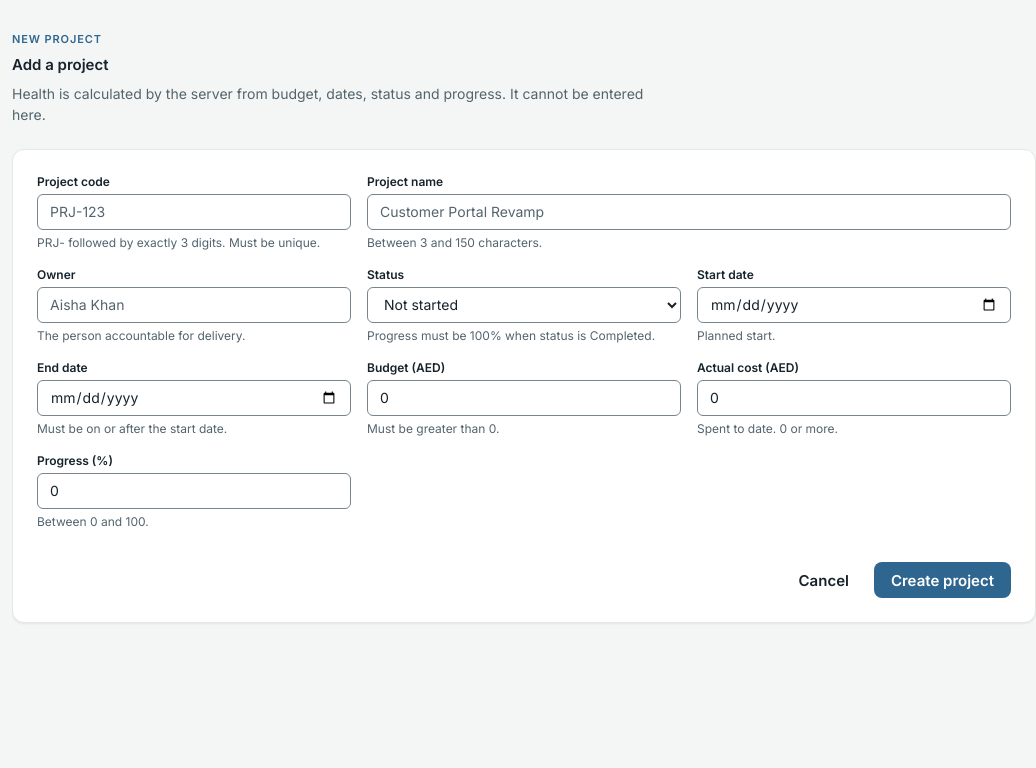
ProjectFormComponent › shows client-side errors and sends nothing when the form is empty
The image size is (1036, 768).
Click the submit button: (942, 580) 874,562 -> 1011,598
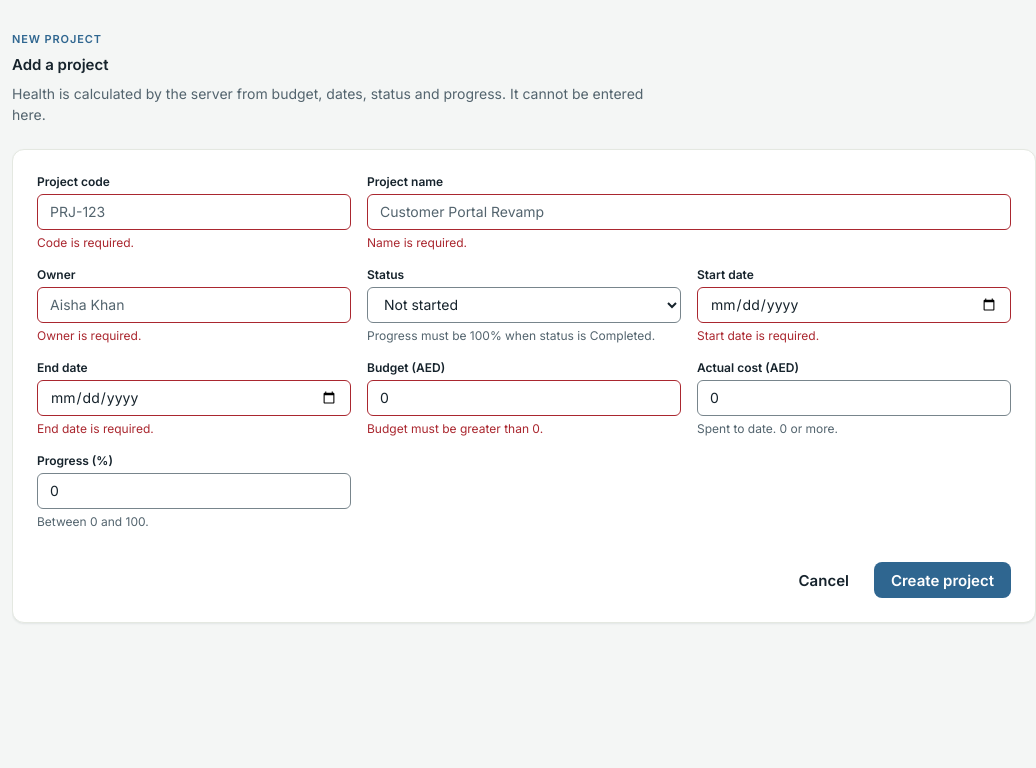
Expected: the text with id "code-message" reads "Code is required.", 37,235 -> 134,250
Expected: the text with id "name-message" reads "Name is required.", 367,235 -> 467,250
Expected: the text with id "owner-message" reads "Owner is required.", 37,328 -> 141,343
